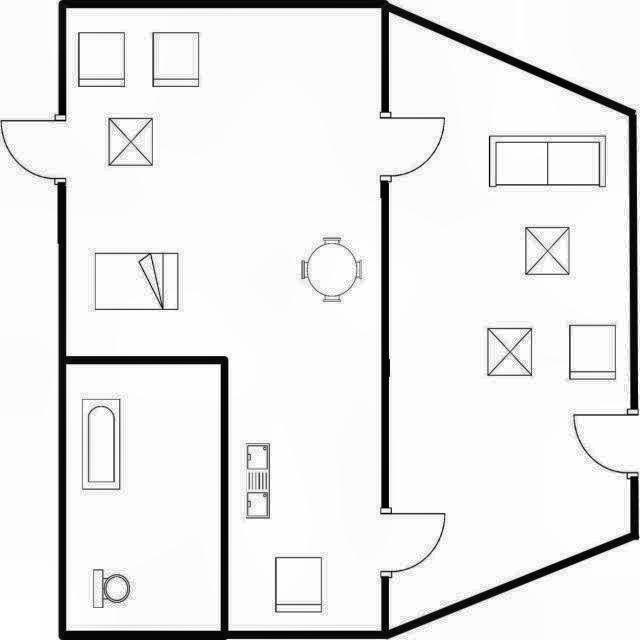room: (66, 8, 382, 631), (389, 11, 630, 630), (66, 364, 221, 631)
